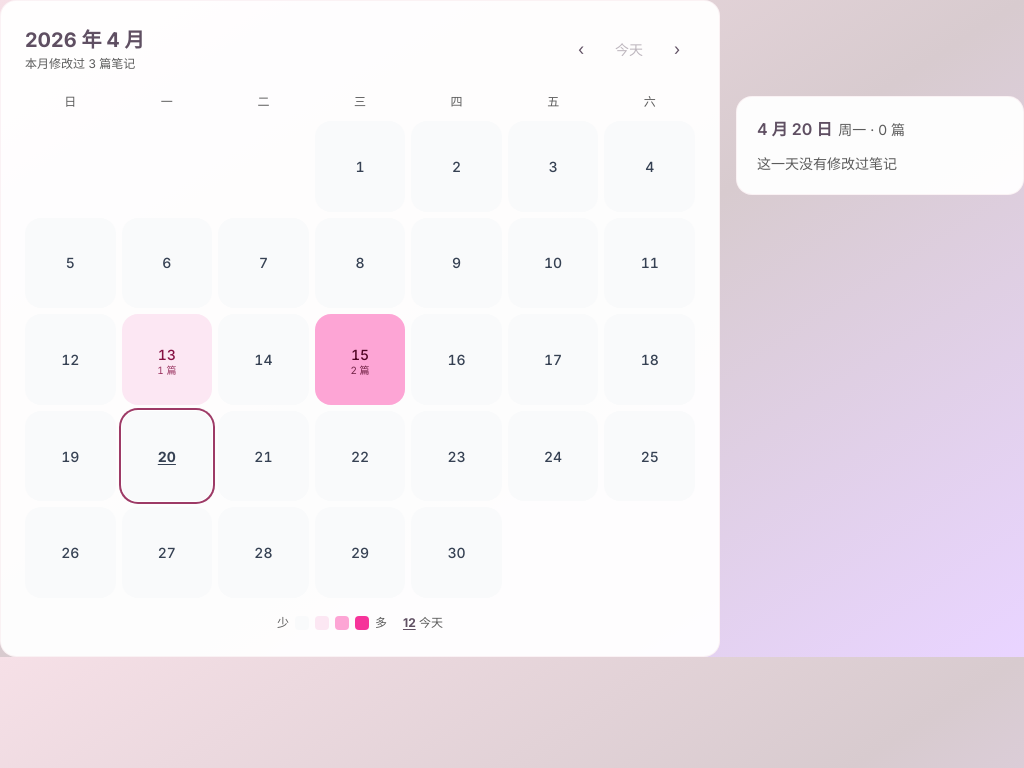
Test case: Calendar Component › navigates between months and back to today
Check: the button "今天" is disabled, box [603,31,655,67]
Step 1. Click the button named "下个月" → click(677, 49), box [659,31,695,67]
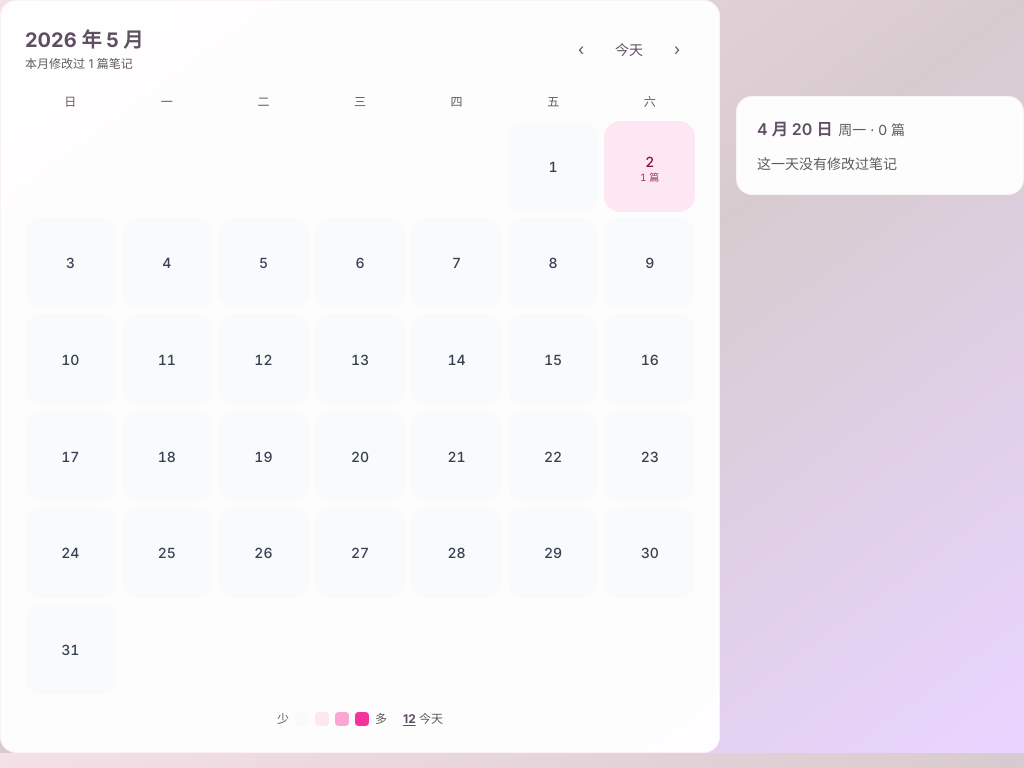
Check: the heading "2026 年 5 月" is shown, box [25,25,143,55]
Check: the text "本月修改过 1 篇笔记" is shown, box [25,55,143,73]
Check: the button "今天" is enabled, box [603,31,655,67]
Step 2. Click the button named "上个月" → click(581, 49), box [563,31,599,67]
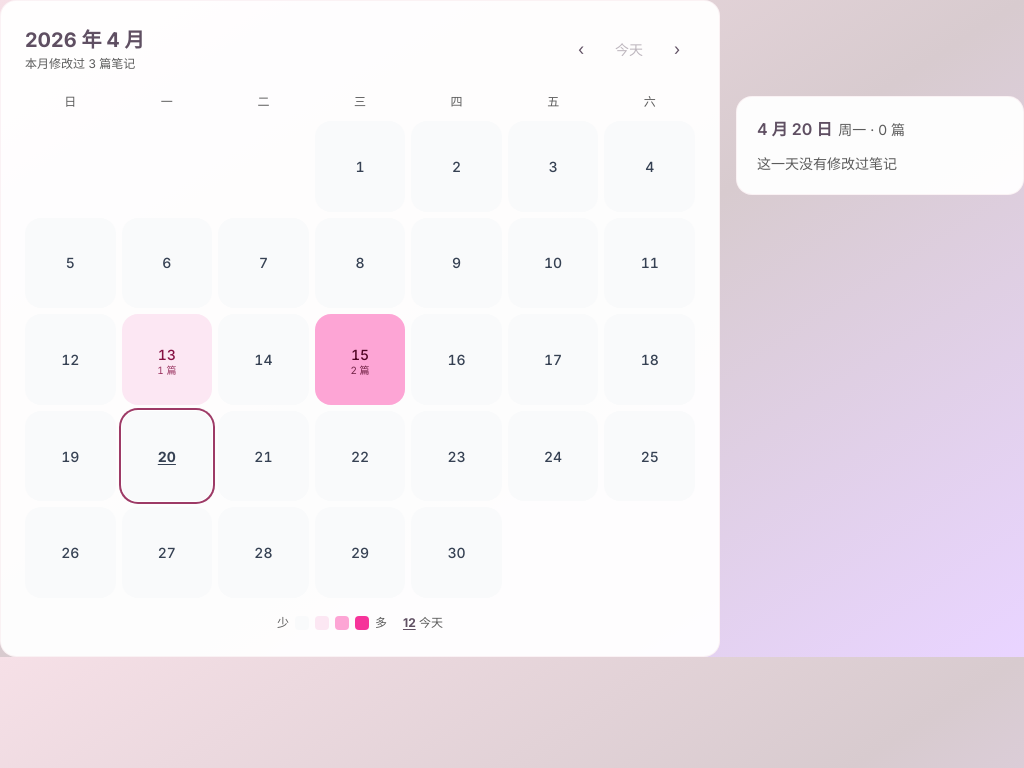
Step 3. Click the button named "上个月" → click(581, 49), box [563,31,599,67]
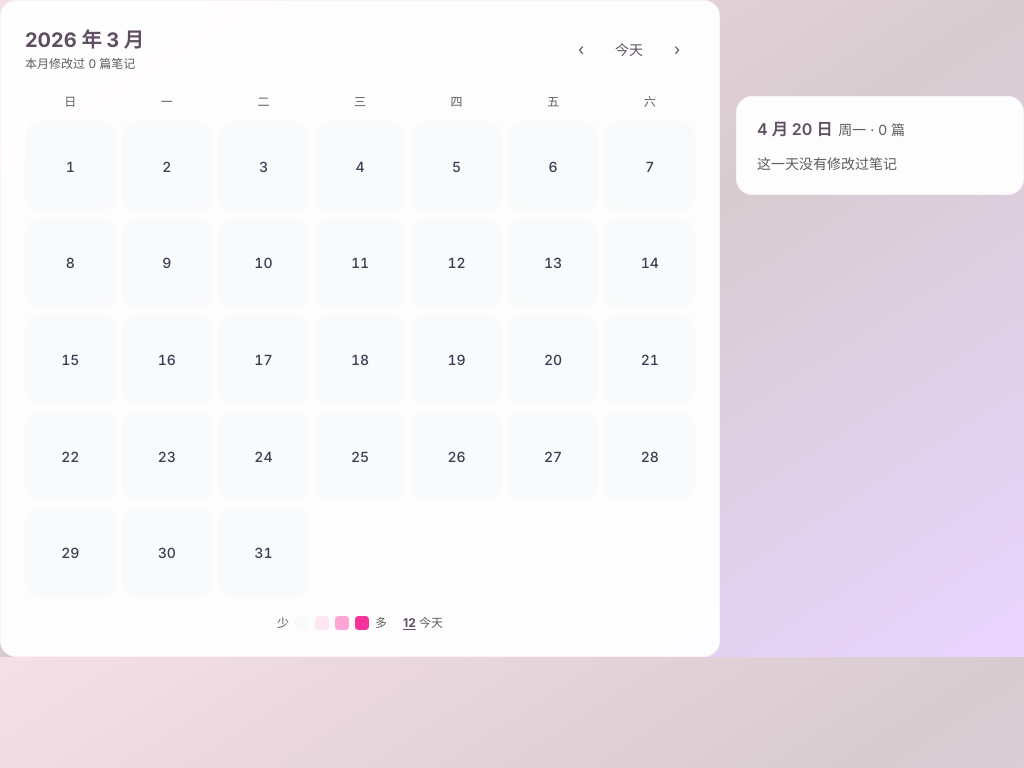
Check: the heading "2026 年 3 月" is shown, box [25,25,144,55]
Step 4. Click the button "今天" → click(629, 49), box [603,31,655,67]
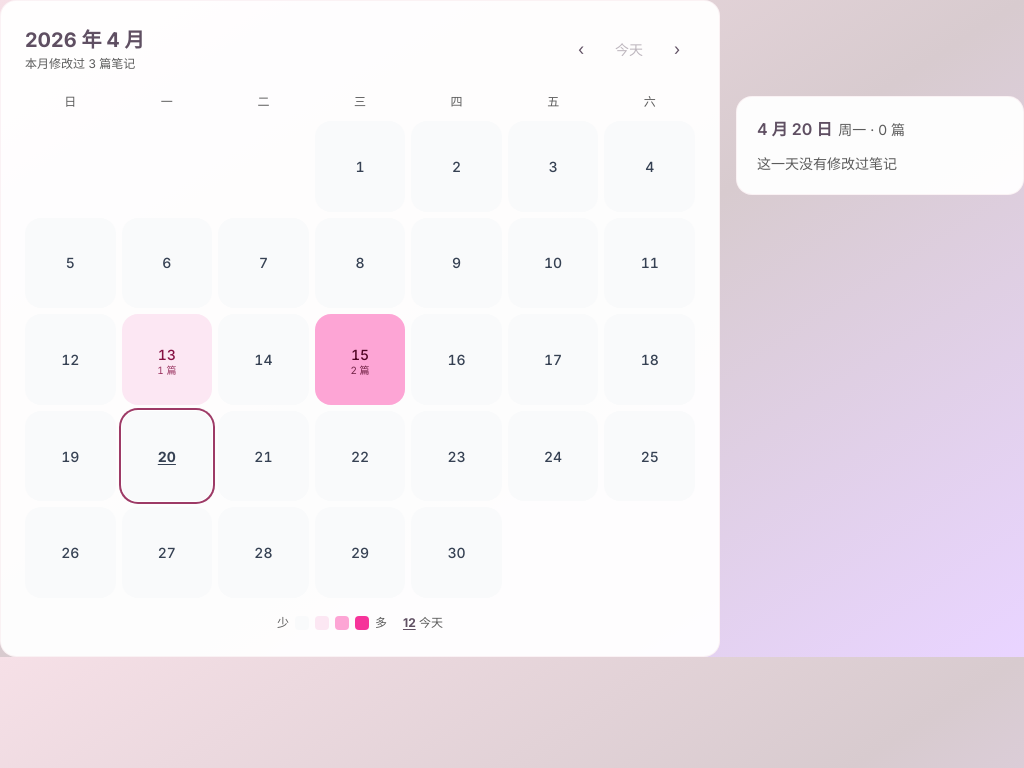
Check: the heading "2026 年 4 月" is shown, box [25,25,144,55]
